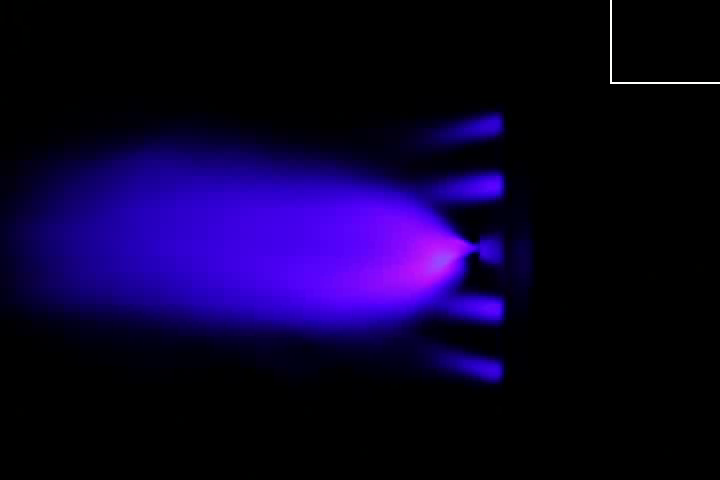burner cap: (475, 237, 505, 267)
pilot flame: (402, 111, 503, 148), (409, 348, 505, 386), (423, 290, 512, 327), (420, 173, 507, 209)
unstable: (362, 215, 480, 290)
